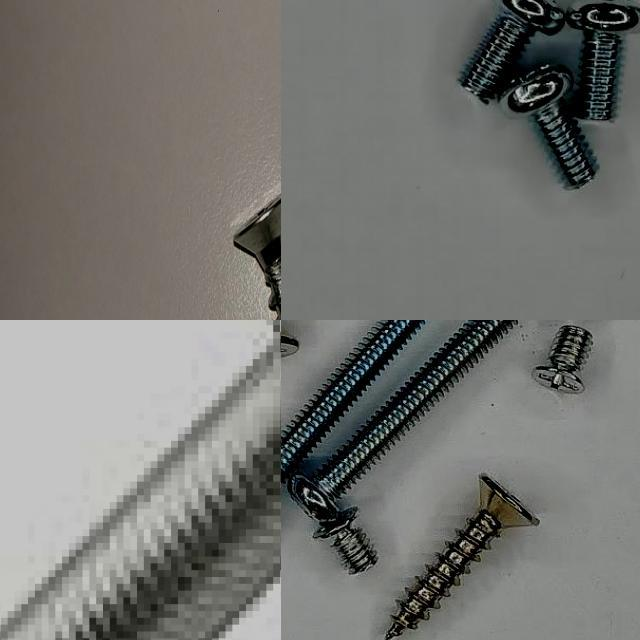Screw: (0, 320, 281, 640), (289, 320, 518, 524), (386, 476, 539, 640), (281, 320, 425, 484), (459, 0, 564, 103), (508, 65, 595, 188), (566, 0, 640, 121), (233, 194, 281, 320), (313, 507, 377, 574), (533, 326, 593, 393)
